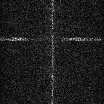wifi: (1, 37, 104, 41)
